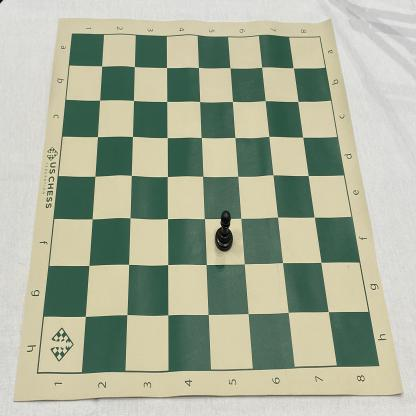black-pawn: (214, 208, 234, 253)
